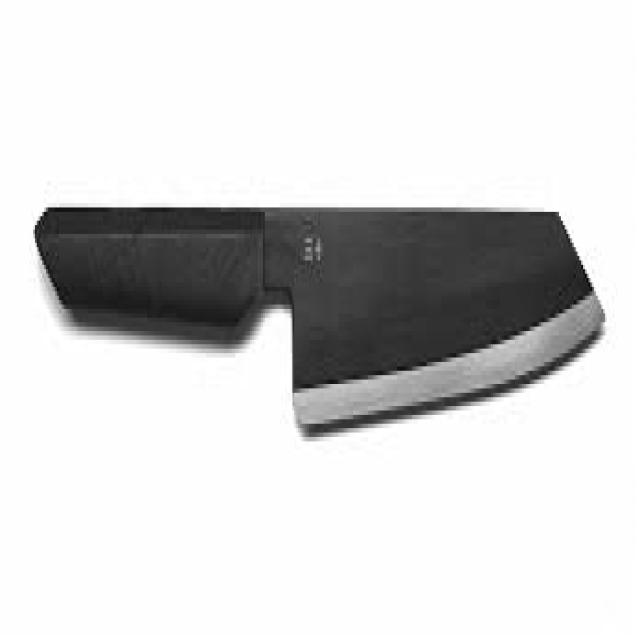knives: (31, 190, 607, 441)
